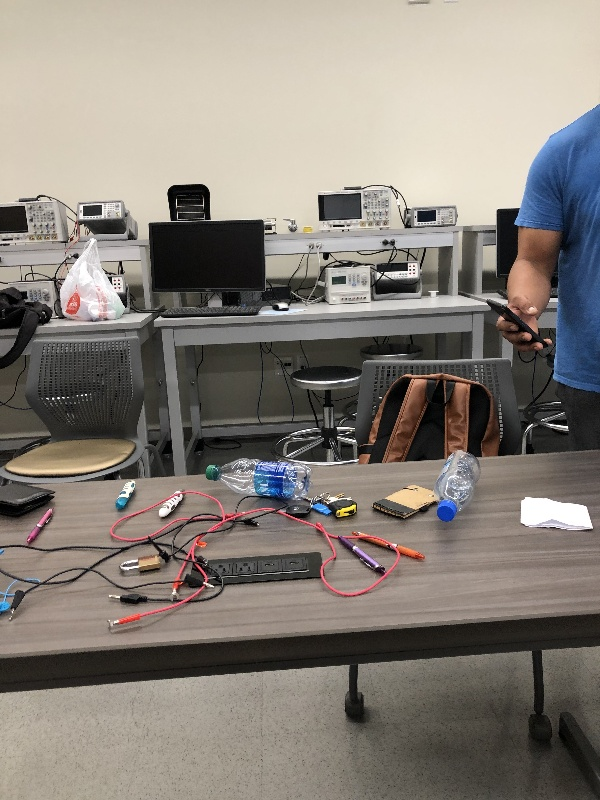bottle: (197, 457, 315, 506), (432, 447, 483, 528)
